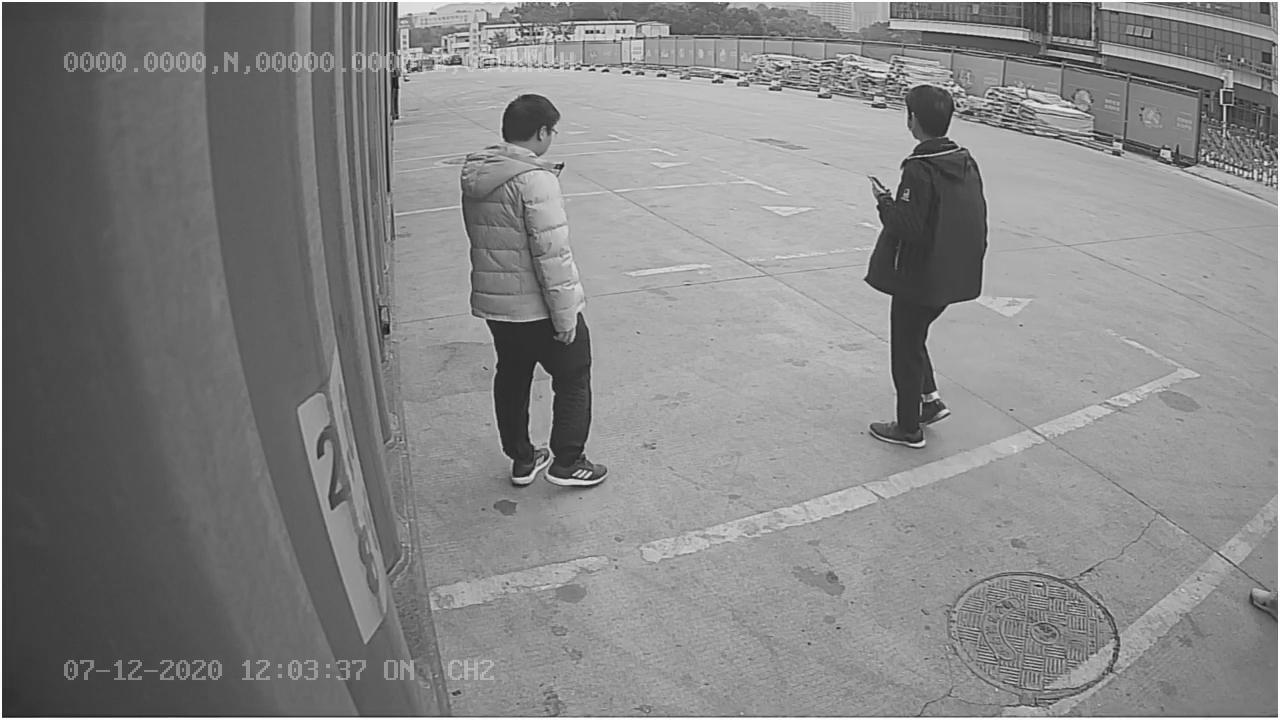person: (456, 92, 610, 494), (859, 84, 991, 446)
